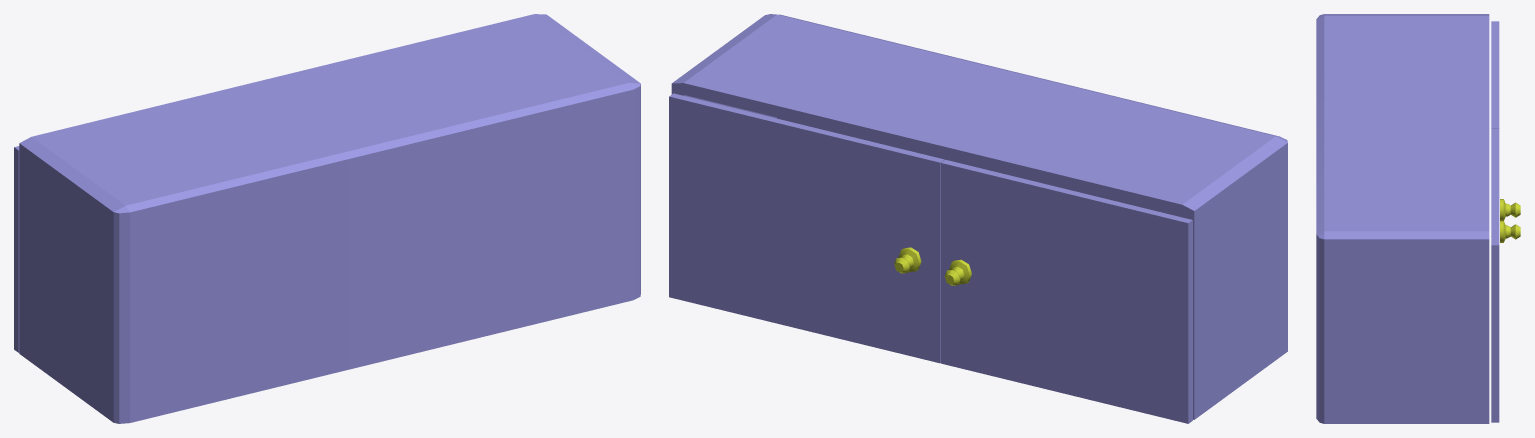
File: Prop_closet6.FBX
3 renders of one model, left to right at view 1: azimuth 30°, elevation 25°; view 2: azimuth 150°, elevation 25°; view 3: azimuth 270°, elevation 25°, orthographic. The views are drawn at different scales.
Visible parts, largest first — view 1: Prop_closet023, Prop_closet019; view 2: Prop_closet023, Prop_closet022, Prop_closet019; view 3: Prop_closet023, Prop_closet022, Prop_closet019, ModuleE_doorhandlep_064, ModuleE_doorhandlep_065.
Boxes of the visible parts, x1,y1,x2,y2 form: Prop_closet023: (19, 14, 640, 423); Prop_closet019: (14, 146, 19, 352); Prop_closet023: (671, 14, 1287, 419); Prop_closet022: (669, 93, 944, 363); Prop_closet019: (941, 159, 1192, 423); Prop_closet023: (1316, 14, 1489, 423); Prop_closet022: (1491, 128, 1499, 422); Prop_closet019: (1491, 21, 1499, 128); ModuleE_doorhandlep_064: (1500, 199, 1520, 220); ModuleE_doorhandlep_065: (1500, 221, 1520, 242).
Bounding box in the file's own units: 51.37 × 19.65 × 19.93.
